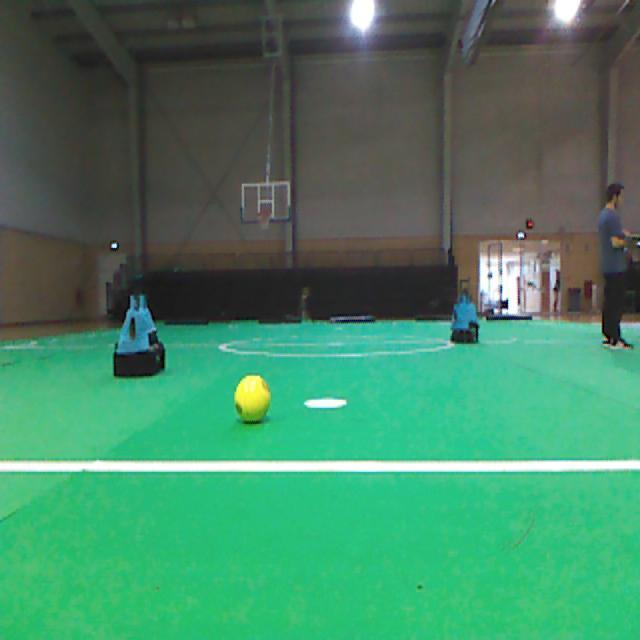ball: (234, 375, 270, 421)
